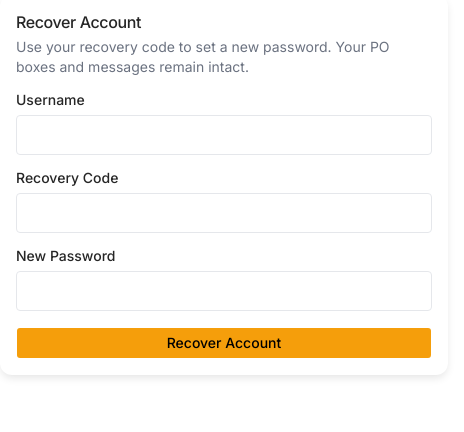
it: RecoverPage › shows error when sealed challenge cannot be opened (wrong code)
The image size is (464, 432).
In the field labelled "Username": (224, 135) [16, 115, 432, 155], type "alice"
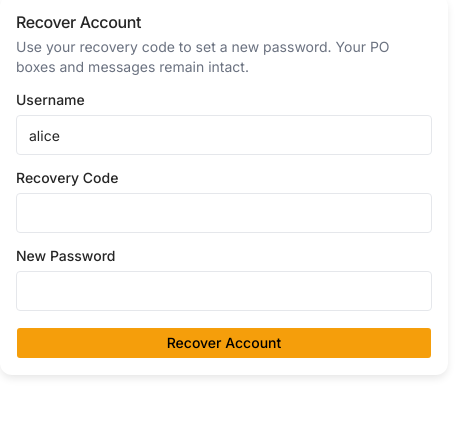
In the field labelled "Recovery Code": (224, 213) [16, 193, 432, 233], type "ABCD-EFGH-IJKL-MNOP"
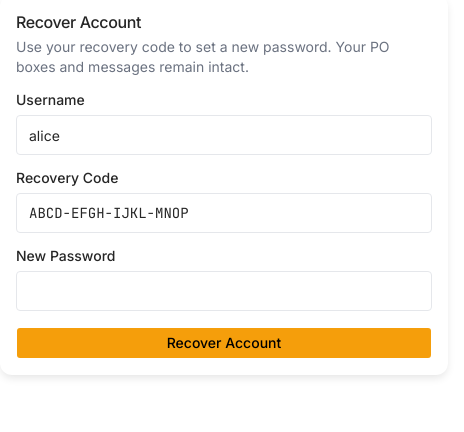
In the password field labelled "New Password": (224, 291) [16, 271, 432, 311], type "newpassword123"
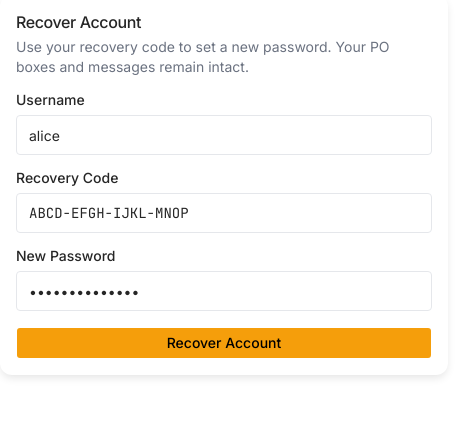
Click the button "Recover Account": (224, 343) [16, 327, 432, 359]
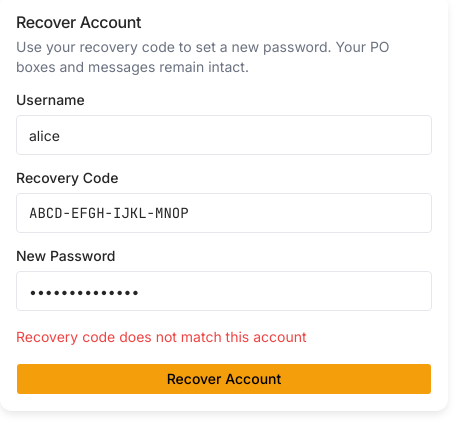
Check: the text "Recovery code does not match this account" is shown, box [16, 328, 307, 345]
